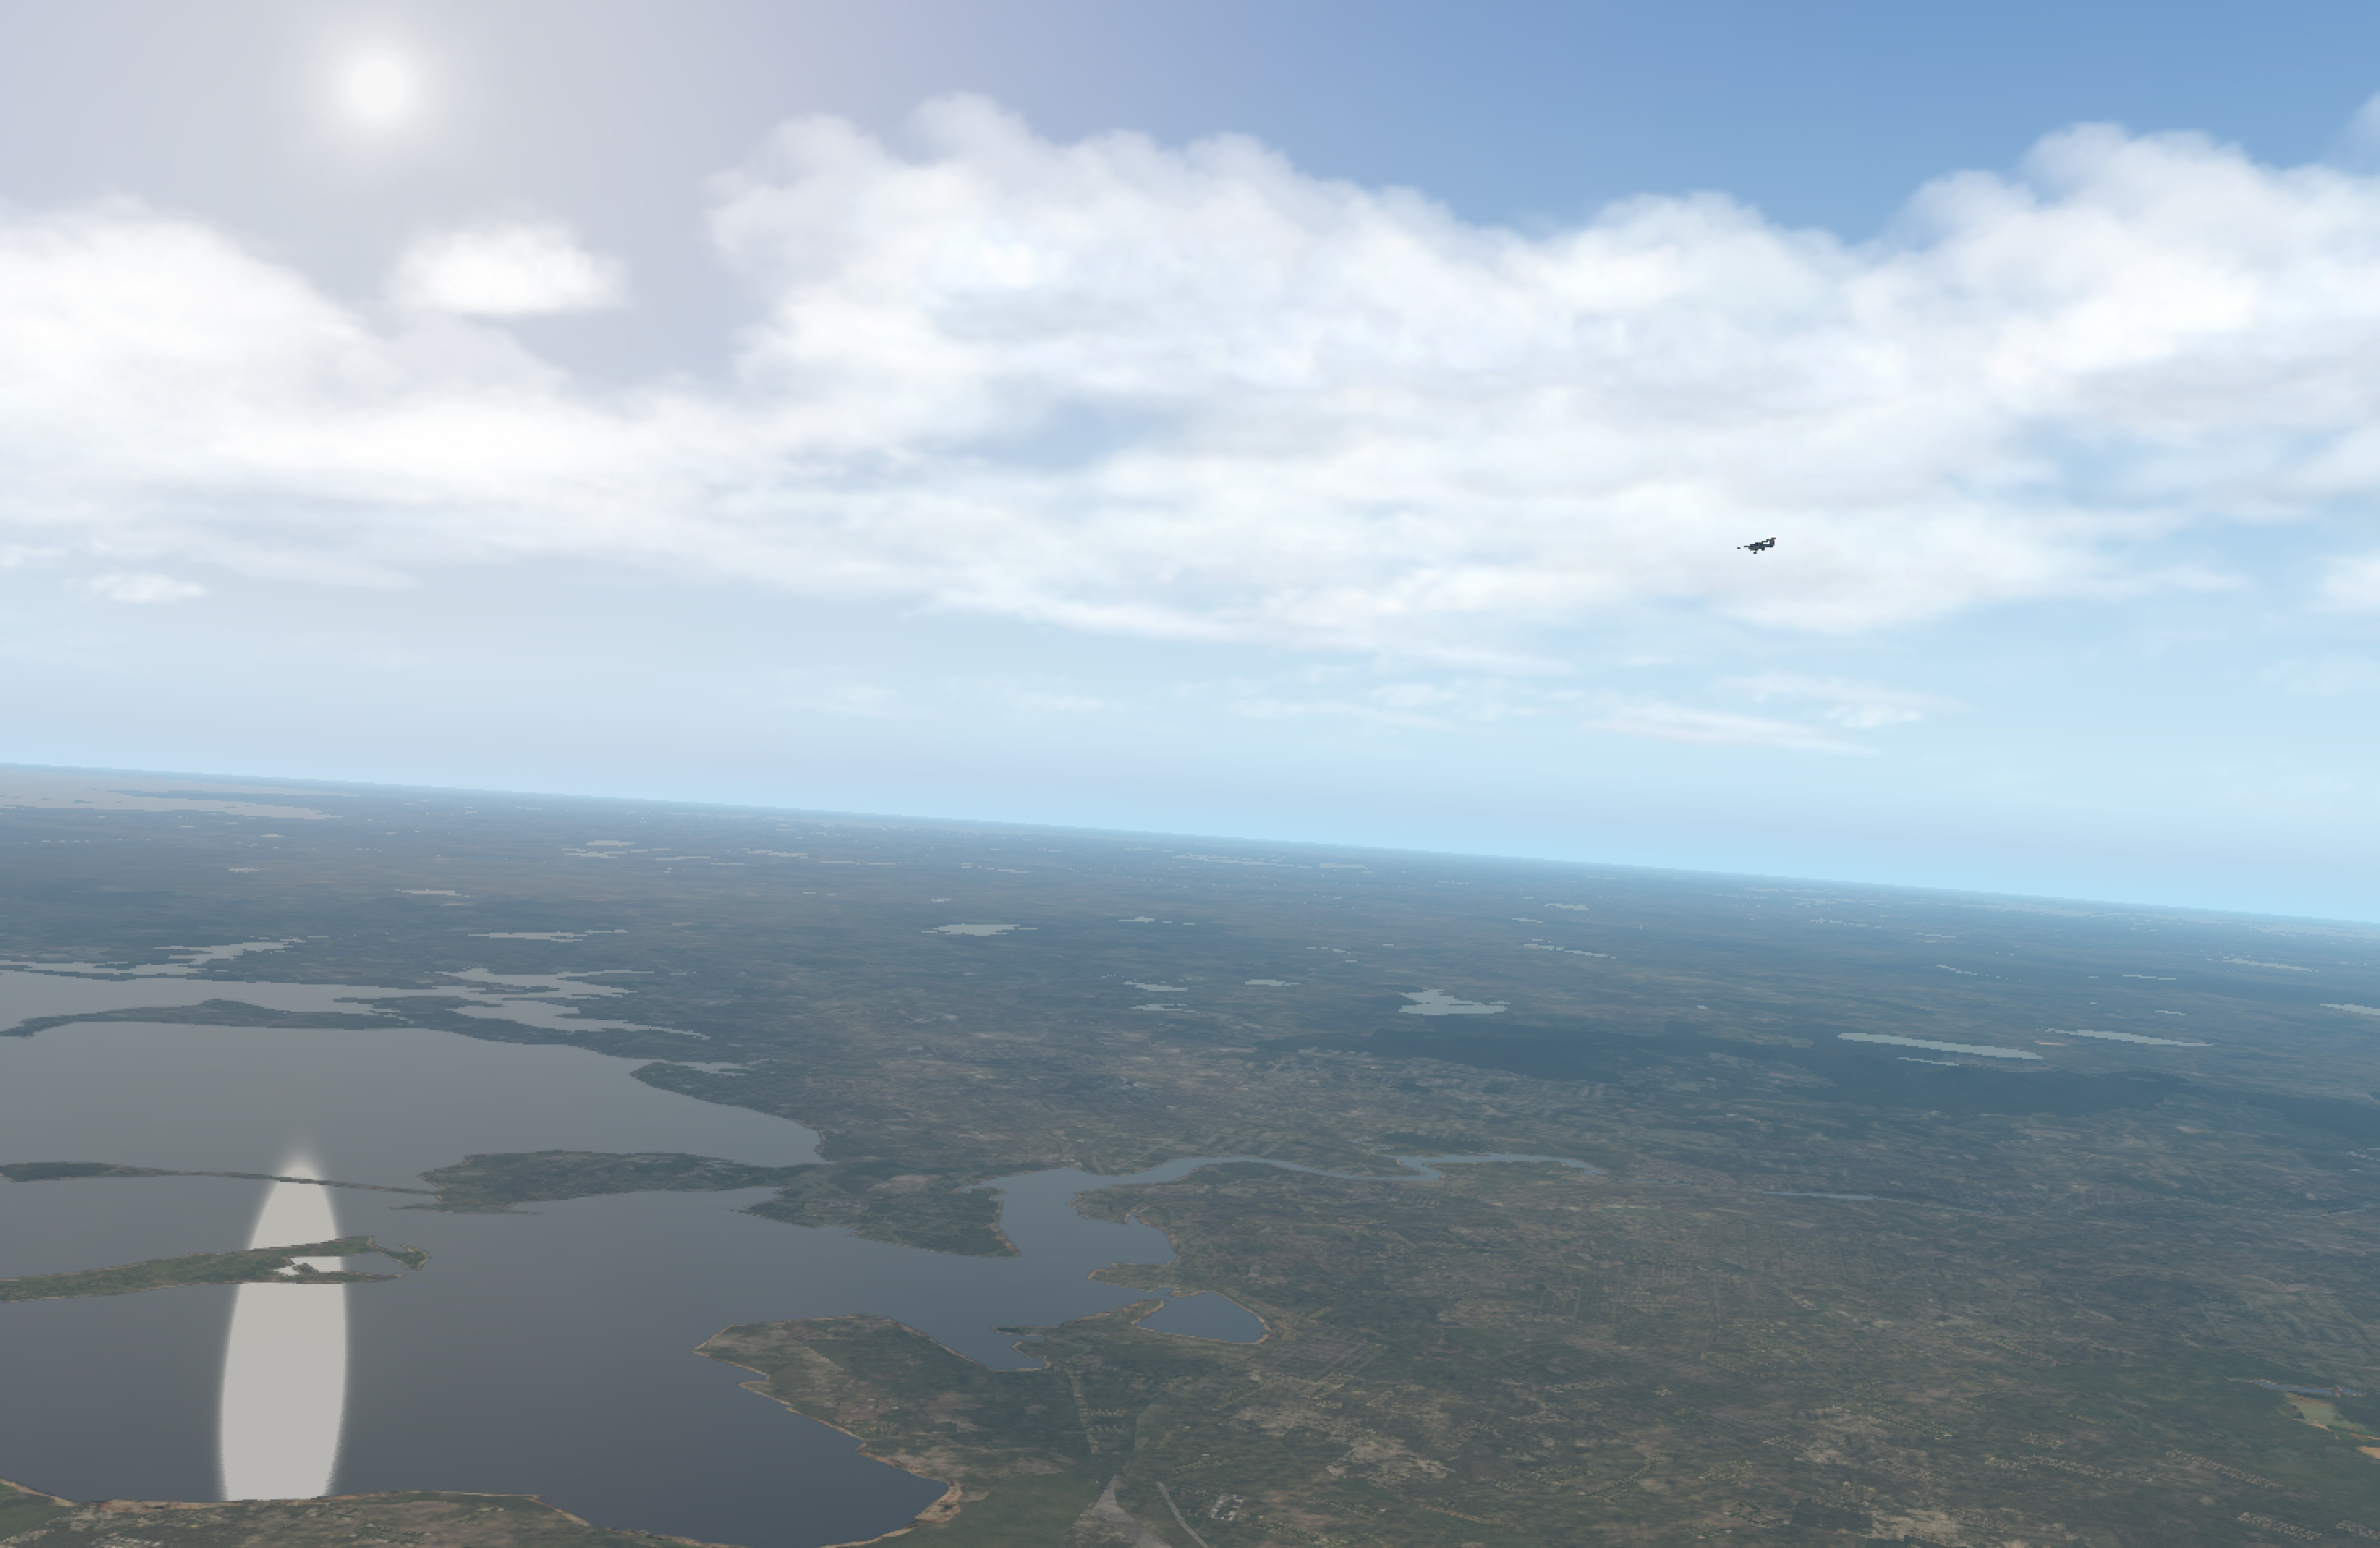aircraft: (1738, 540, 1775, 554)
